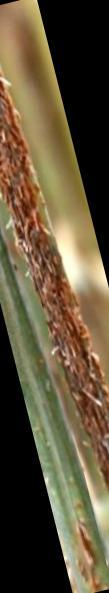Wheat: (74, 521, 101, 573), (1, 146, 30, 186), (10, 194, 44, 222), (47, 312, 83, 338), (24, 231, 57, 259), (62, 347, 98, 372), (75, 382, 109, 406), (39, 270, 63, 303), (82, 416, 109, 445), (0, 99, 18, 134), (94, 453, 109, 466)
